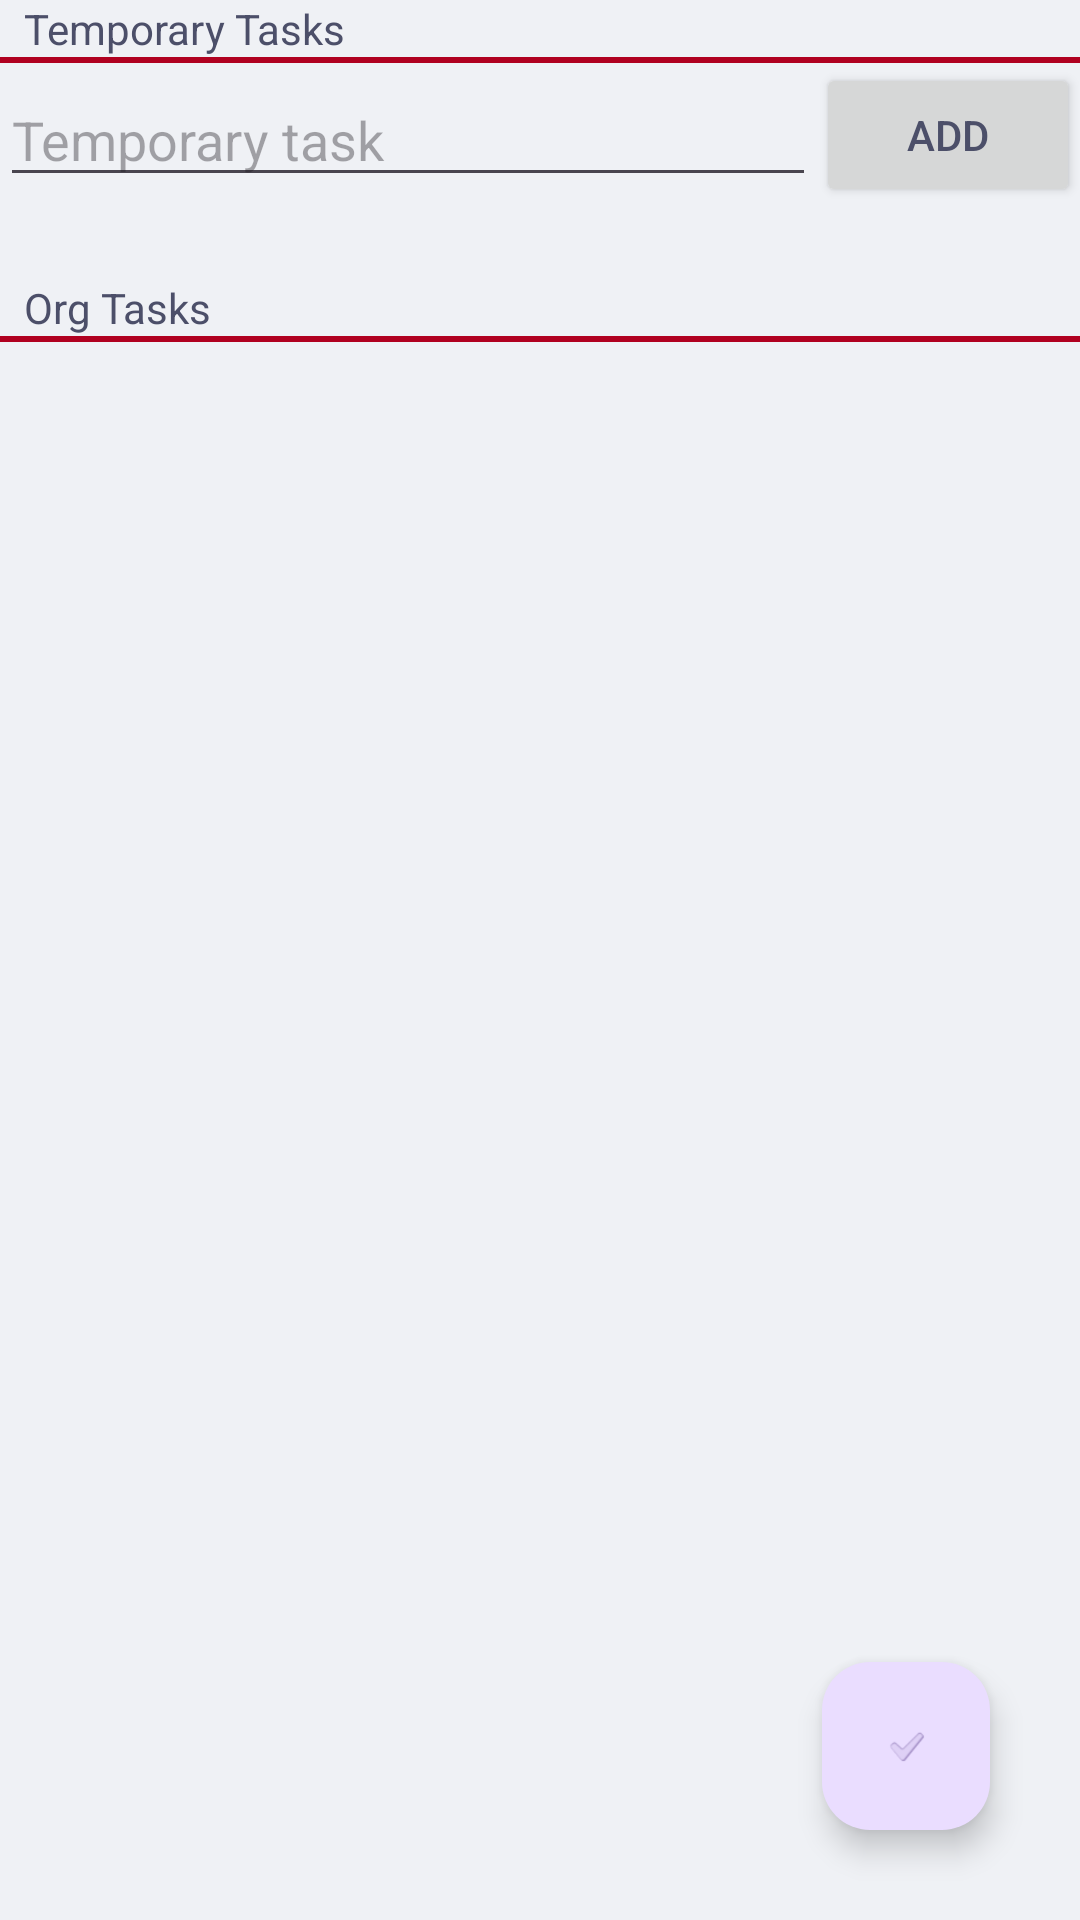

Where to tap for icons on this 1080*1920 app screen, as (x=x, y=y):
Confirm: (x=906, y=1746)
